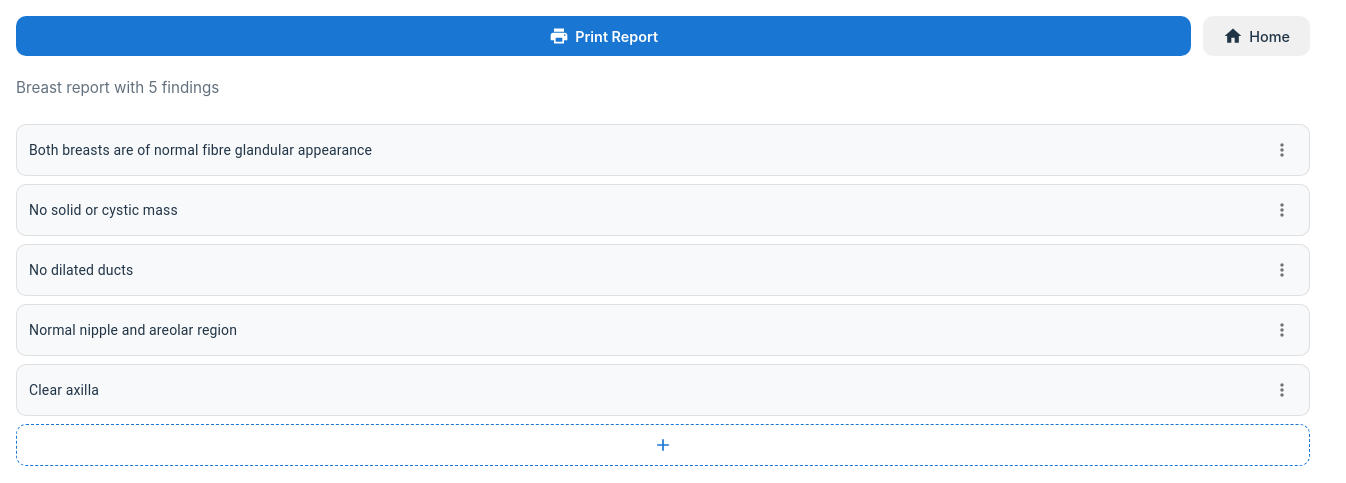
Test case: MobileReviewCard › kebab menu shows Edit and Delete options
The width and height of the screenshot is (1346, 483).
Click the 1st button named "Finding options" at (1282, 150), box top-left (1267, 135), bottom-right (1297, 165)
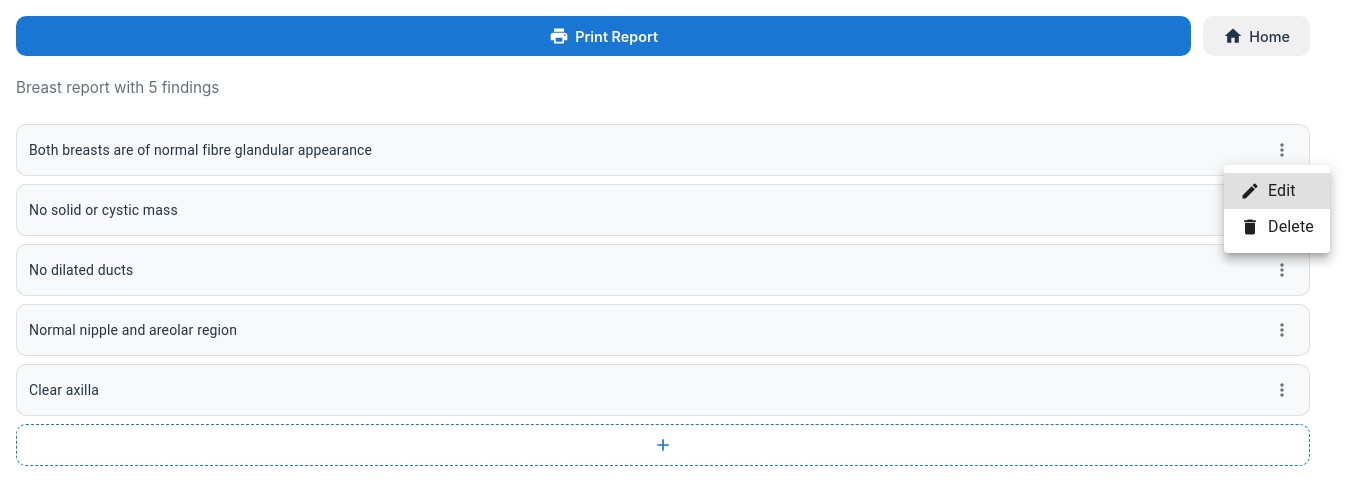
Check: the menu item "Edit" is shown, box top-left (1224, 173), bottom-right (1330, 209)
Check: the menu item "Delete" is shown, box top-left (1240, 217), bottom-right (1314, 237)
